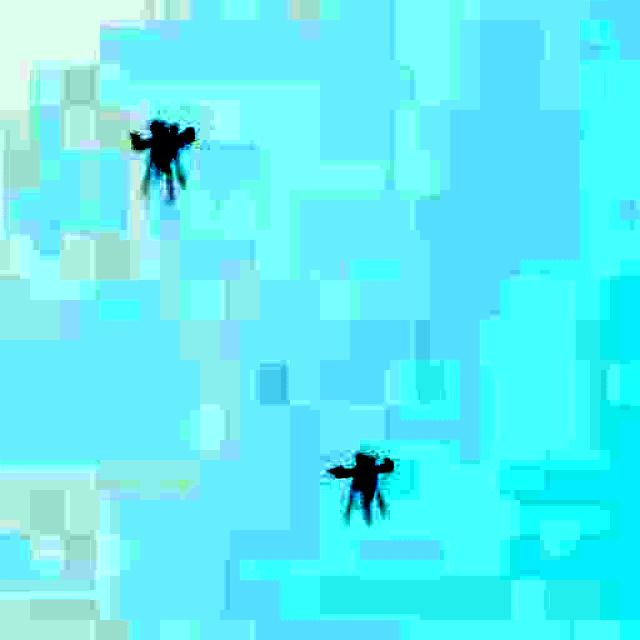bird: (111, 99, 228, 196), (300, 434, 426, 521)
